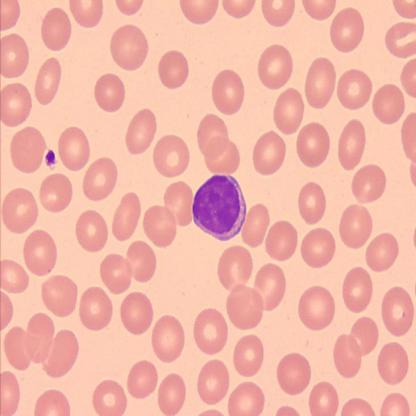Lymphocyte: (192, 173, 246, 242)
